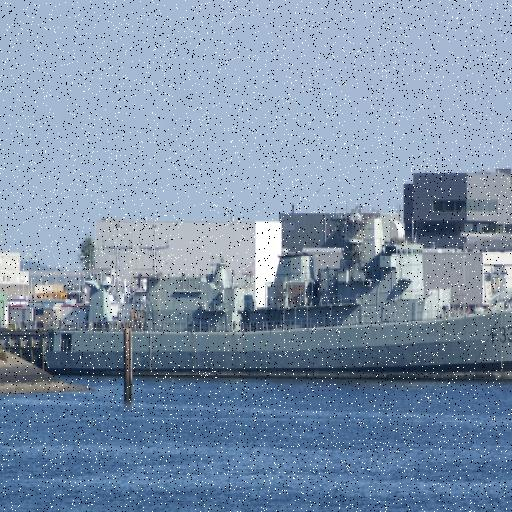Fragata: (43, 207, 512, 380)
